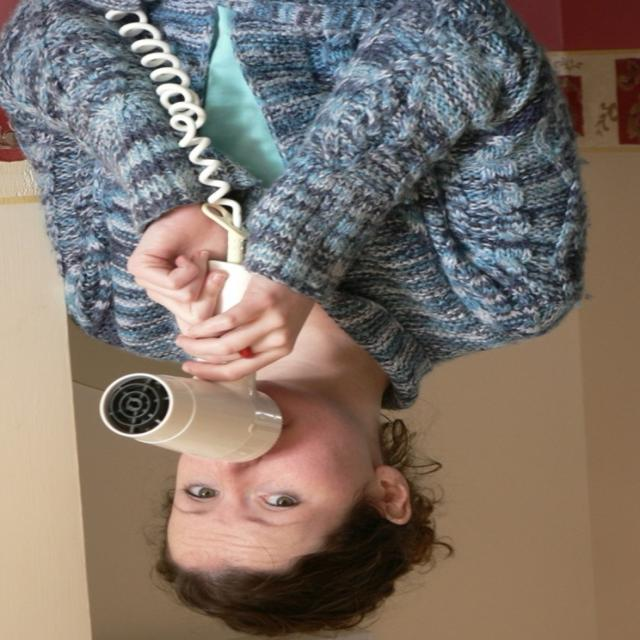dryer: (17, 3, 311, 477)
